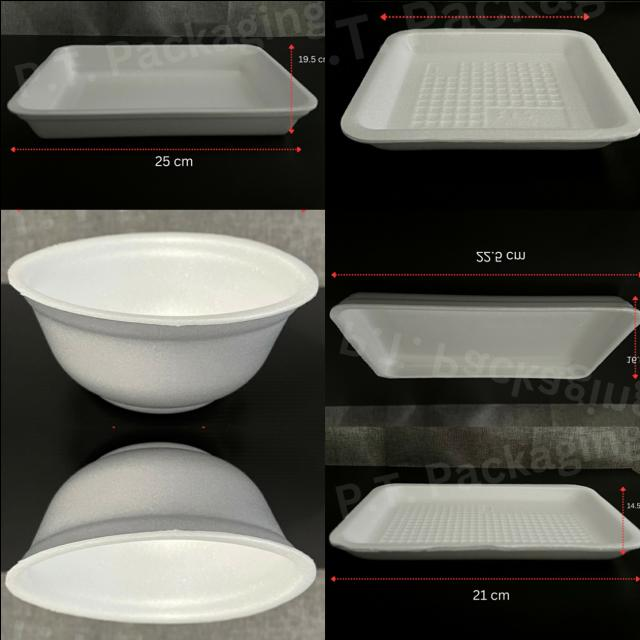plastik: (8, 231, 317, 411), (5, 442, 314, 622), (340, 27, 640, 149), (7, 43, 317, 138), (329, 292, 640, 378), (328, 482, 640, 559)
